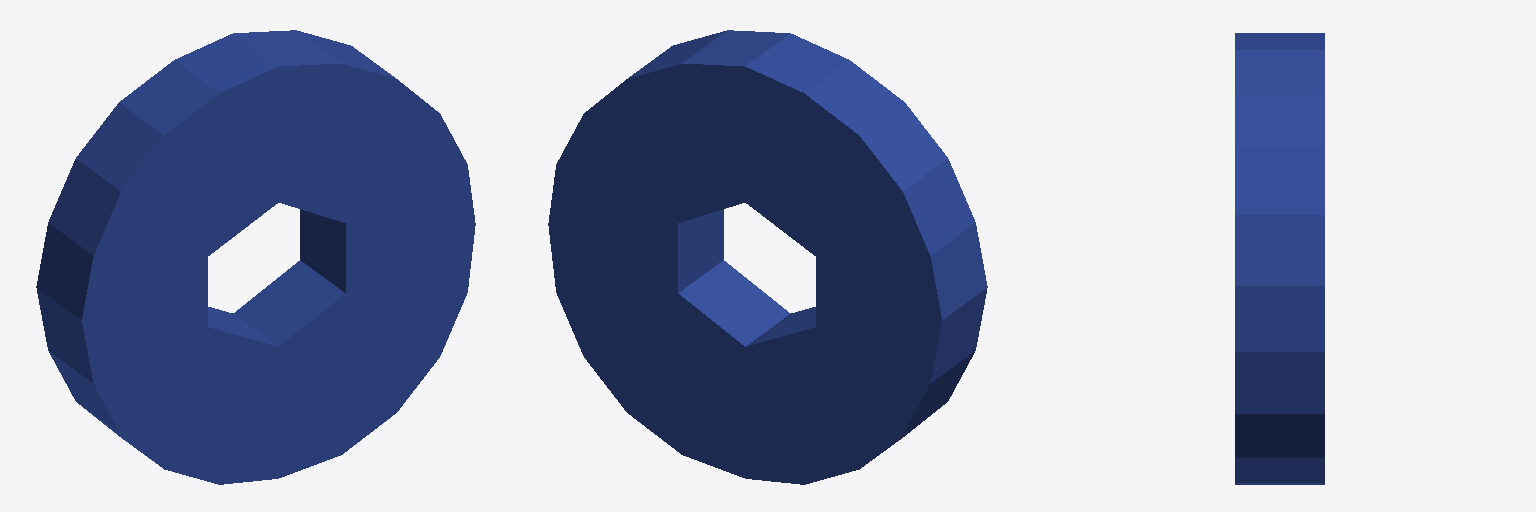
The model's file is hole.obj.
The picture shows the model from 3 angles: view 1: azimuth 30°, elevation 25°; view 2: azimuth 150°, elevation 25°; view 3: azimuth 270°, elevation 25°; orthographic projection.
Size of the model in its own units: 0.1 by 0.1 by 0.02.